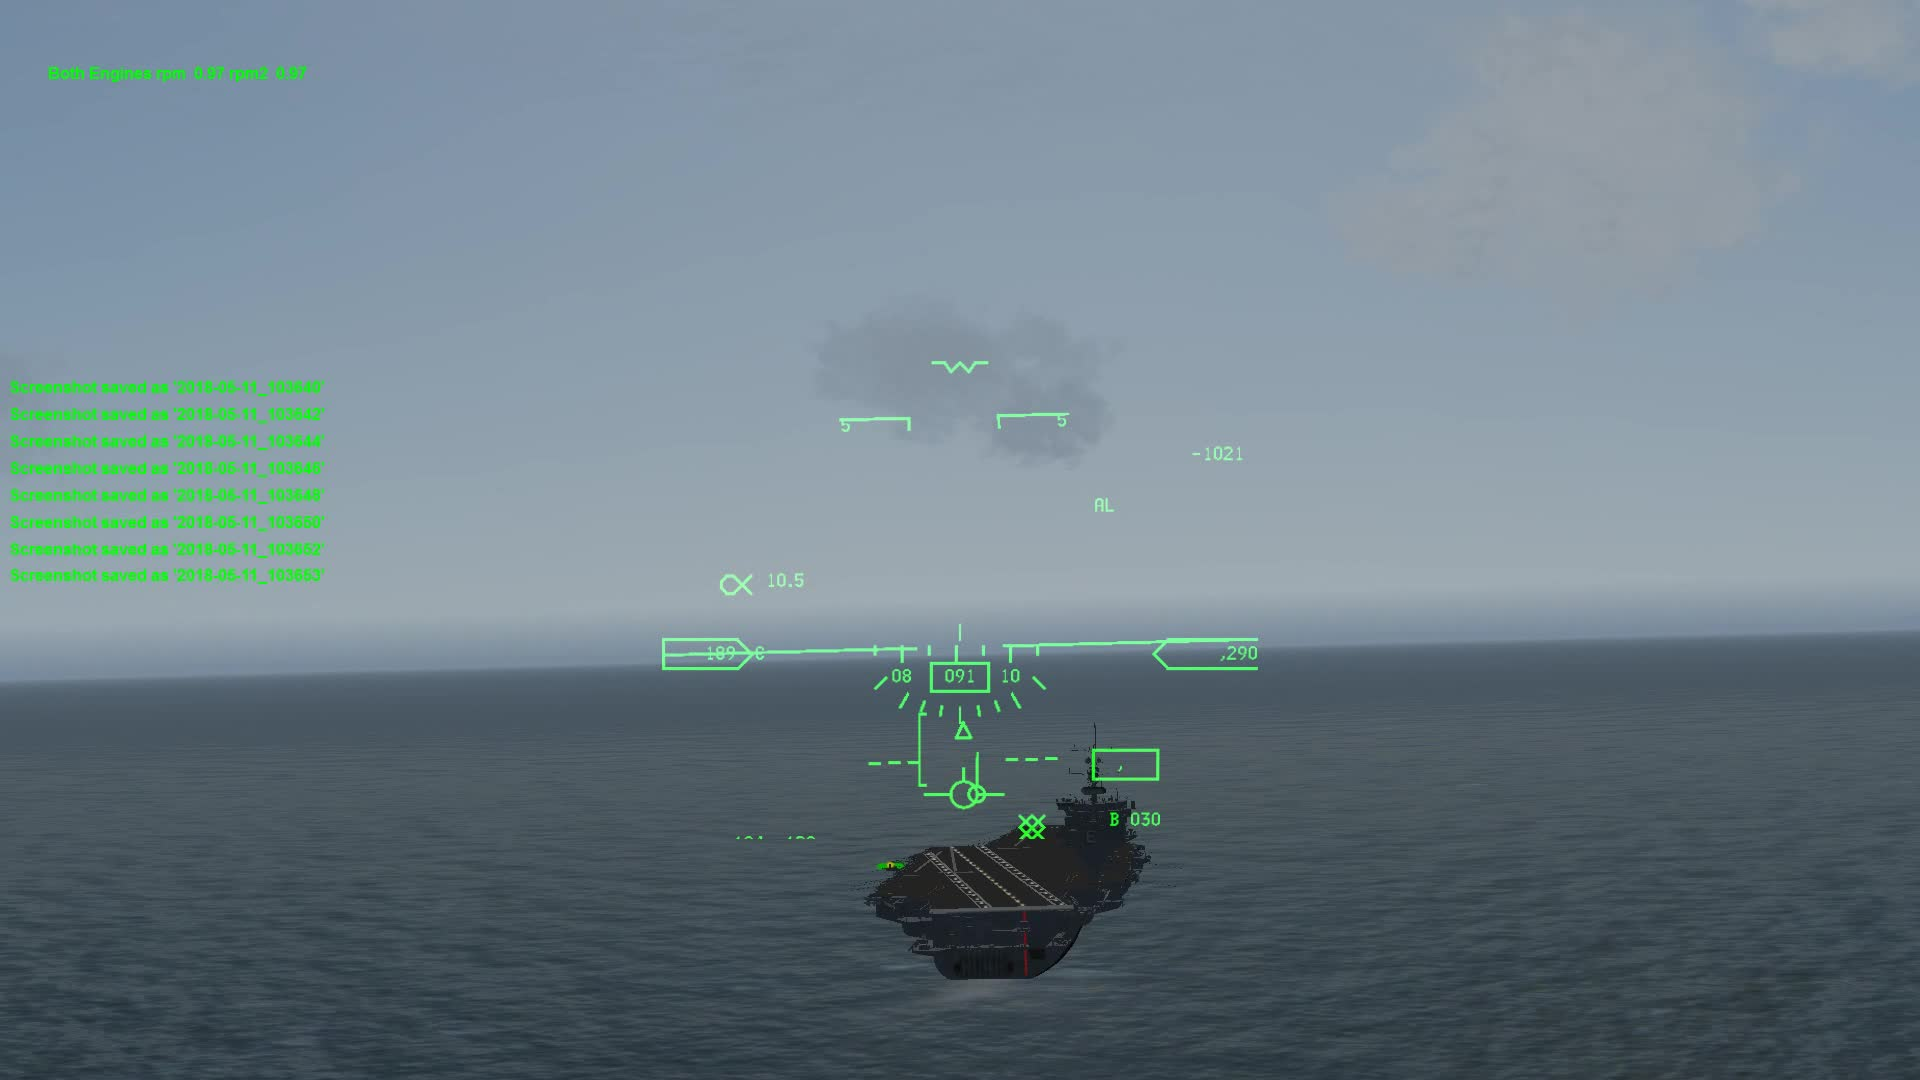speed vector: (918, 764, 1007, 819)
